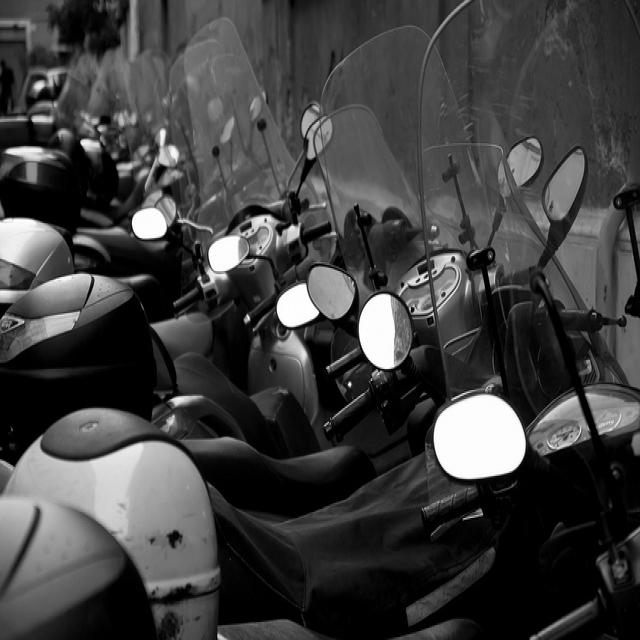motor: (0, 268, 640, 640), (1, 145, 635, 515), (151, 24, 480, 457), (1, 108, 334, 410), (40, 49, 145, 226), (1, 138, 182, 228), (238, 257, 342, 376), (71, 223, 194, 314), (0, 60, 103, 154), (130, 52, 173, 183)
